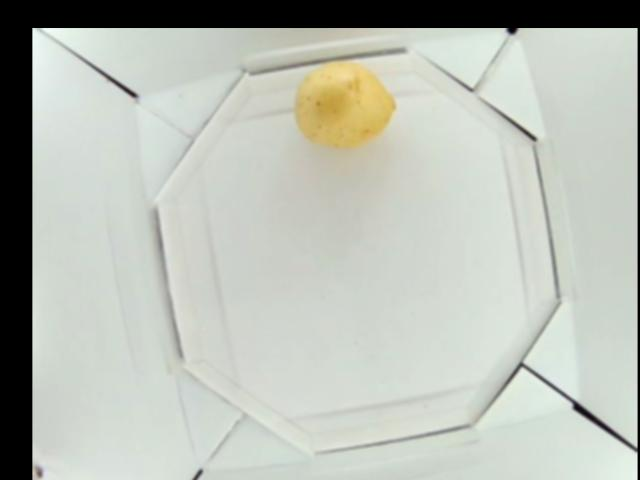Potato: (295, 64, 399, 146)
